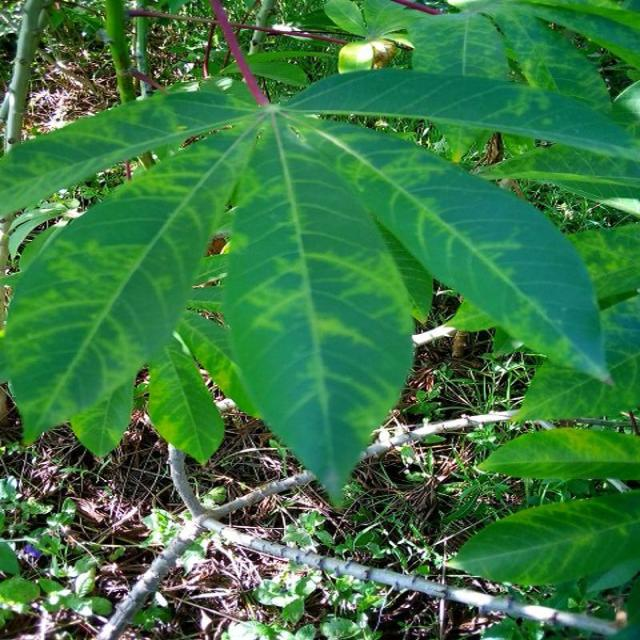cassava leaf: (2, 82, 616, 507), (222, 106, 418, 508)
